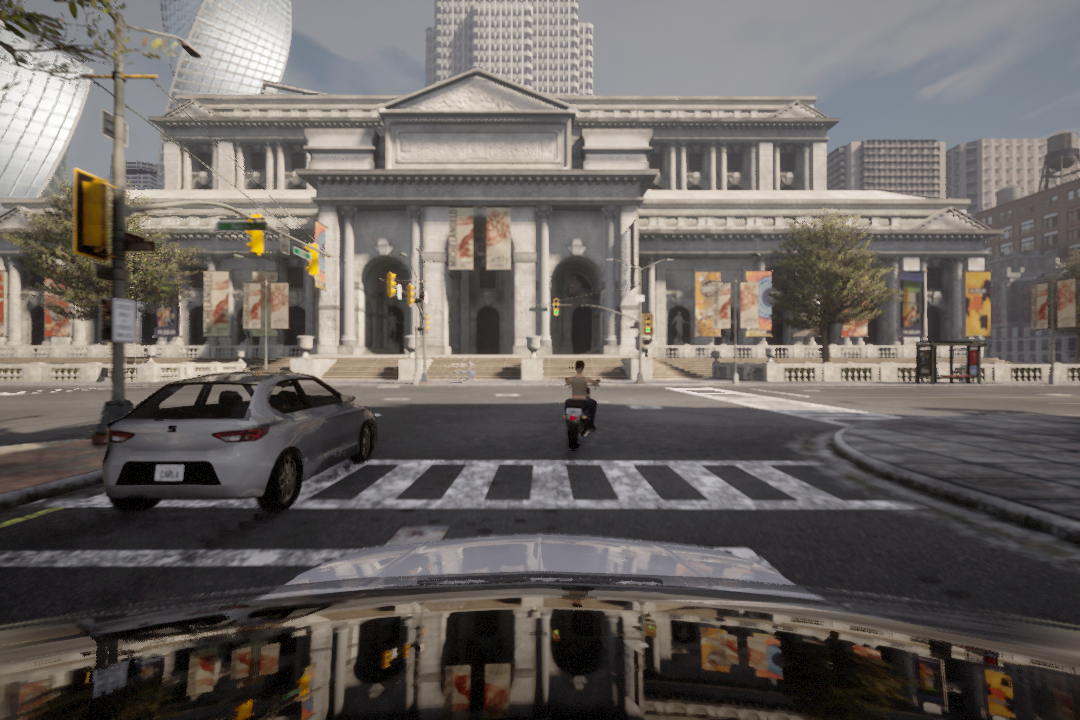TrafficLight: (643, 314, 655, 336), (552, 297, 561, 317)
walkside: (51, 447, 907, 520), (667, 384, 897, 425)
